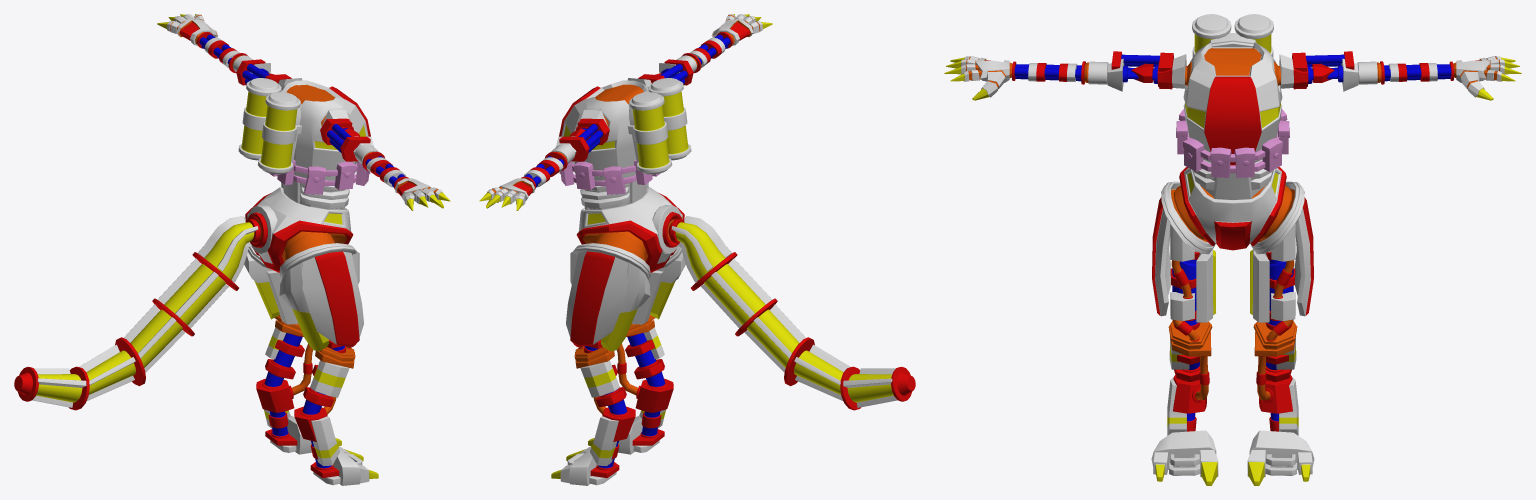
File: SM_PoodleArmor_Substance.fbx
3 renders of one model, left to right at view 1: azimuth 30°, elevation 25°; view 2: azimuth 150°, elevation 25°; view 3: azimuth 270°, elevation 25°, orthographic. The views are drawn at different scales.
Visible parts, largest first — view 1: Tail, LowerLegs, UpperLegs, Arms, Chest, Backpack, Hips, Belly, TailConnector; view 2: Tail, LowerLegs, UpperLegs, Arms, Chest, Backpack, Hips, Belly, TailConnector; view 3: UpperLegs, Chest, Arms, LowerLegs, Hips, Backpack, Belly.
Boxes of the visible parts, box(x1,y1,x2,y2) form: Tail: box(14, 216, 261, 410); LowerLegs: box(256, 320, 378, 485); UpperLegs: box(244, 217, 363, 360); Arms: box(157, 14, 450, 210); Chest: box(269, 80, 370, 194); Backpack: box(238, 78, 302, 174); Hips: box(245, 187, 353, 272); Belly: box(281, 180, 349, 209); TailConnector: box(247, 205, 277, 253); Tail: box(668, 216, 915, 410); LowerLegs: box(551, 320, 673, 485); UpperLegs: box(566, 217, 685, 360); Arms: box(479, 14, 772, 210); Chest: box(559, 80, 660, 194); Backpack: box(627, 78, 691, 174); Hips: box(576, 187, 684, 272); Belly: box(580, 180, 648, 209); TailConnector: box(652, 205, 682, 253); UpperLegs: box(1152, 181, 1313, 348); Chest: box(1176, 42, 1289, 177); Arms: box(944, 51, 1521, 100); LowerLegs: box(1151, 331, 1314, 485); Hips: box(1173, 167, 1292, 250); Backpack: box(1192, 14, 1273, 57); Belly: box(1192, 159, 1273, 199).
Size of the model in its own units: 109 by 141 by 114.
